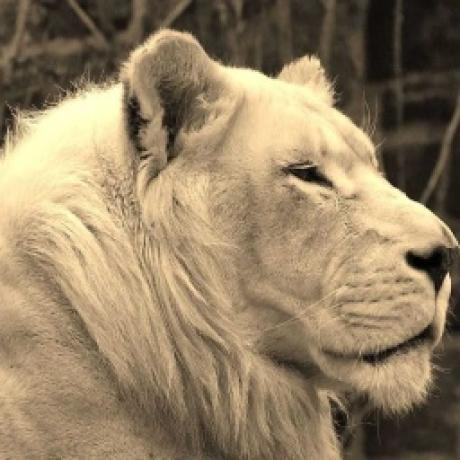Lion: (0, 29, 460, 460)
